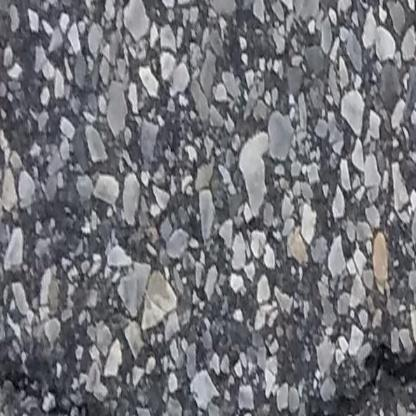Cracks: (0, 323, 127, 416), (252, 345, 416, 416)
